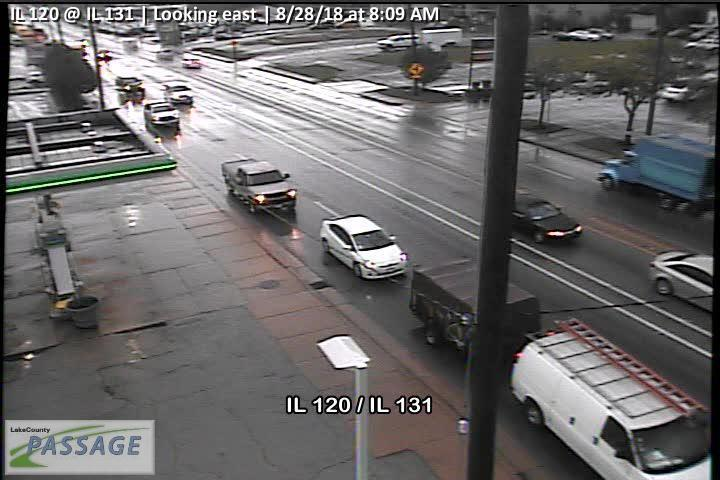Sedan: (320, 213, 408, 281), (644, 247, 720, 312), (504, 187, 584, 246), (160, 82, 194, 106)
Truck: (409, 257, 720, 480), (596, 130, 720, 218), (220, 156, 298, 215), (143, 101, 181, 129)
